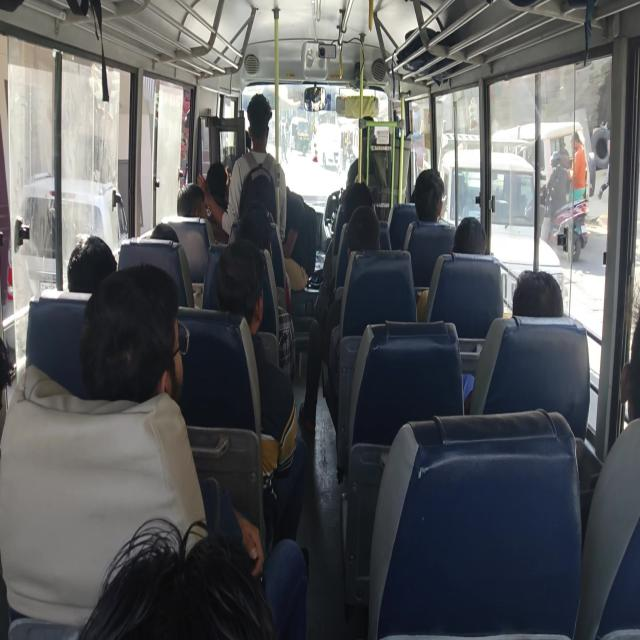person: (88, 529, 228, 640), (95, 269, 176, 389), (515, 276, 573, 354), (404, 154, 456, 232), (215, 257, 262, 318), (442, 233, 488, 270), (347, 212, 380, 263), (76, 245, 112, 291), (245, 217, 277, 268), (352, 179, 386, 224), (245, 110, 278, 150), (208, 160, 238, 197), (158, 218, 186, 250), (180, 185, 210, 212), (250, 202, 270, 222)
